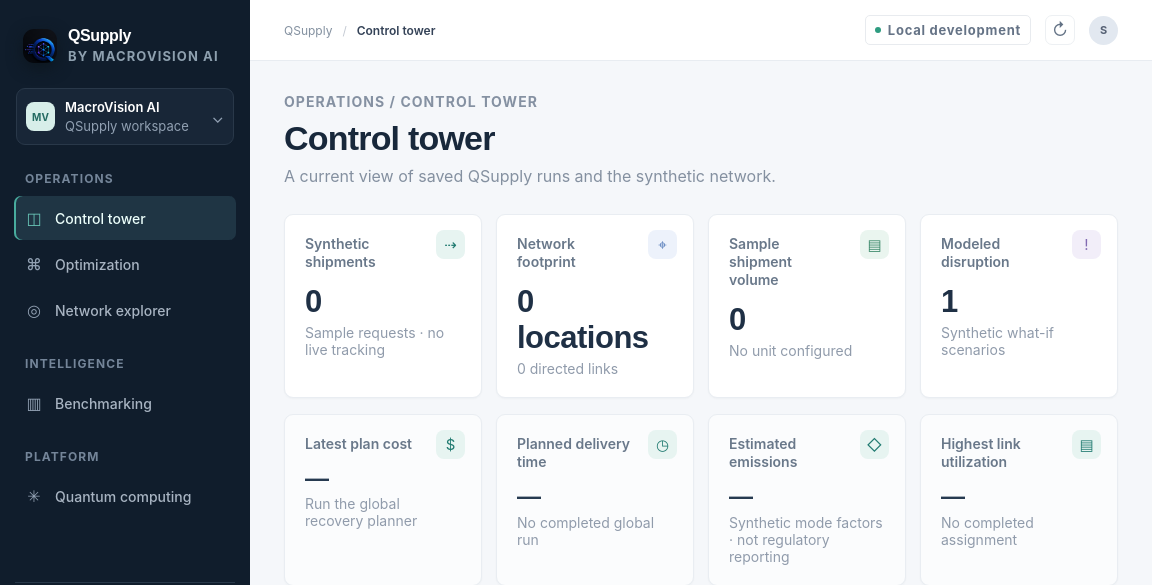
Test: QSupply dashboard interactions › applies a predefined multi-objective profile with weights totaling 100
The width and height of the screenshot is (1152, 585).
expect the heading "Control tower" is shown: met, box [284,119,495,157]
Step 1. Click the button "◎ Network explorer" → point(125, 310), box [14,288,236,332]
(page scrolled)
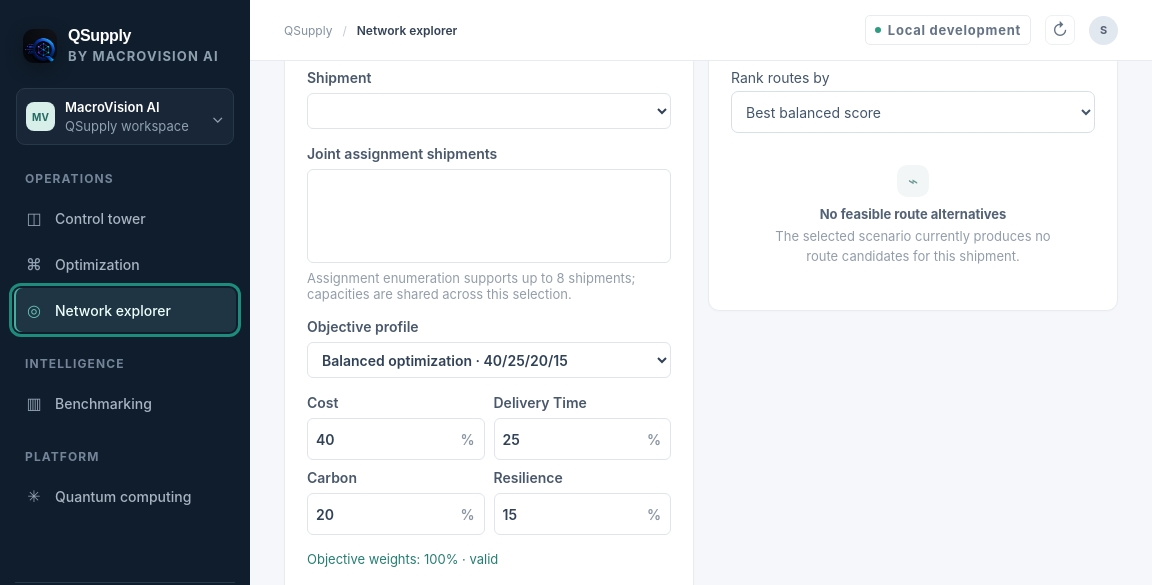
Step 2. Select "Cost priority · 70/10/10/10" in the dropdown labelled "Objective profile" → point(489, 360), box [307,342,671,378]
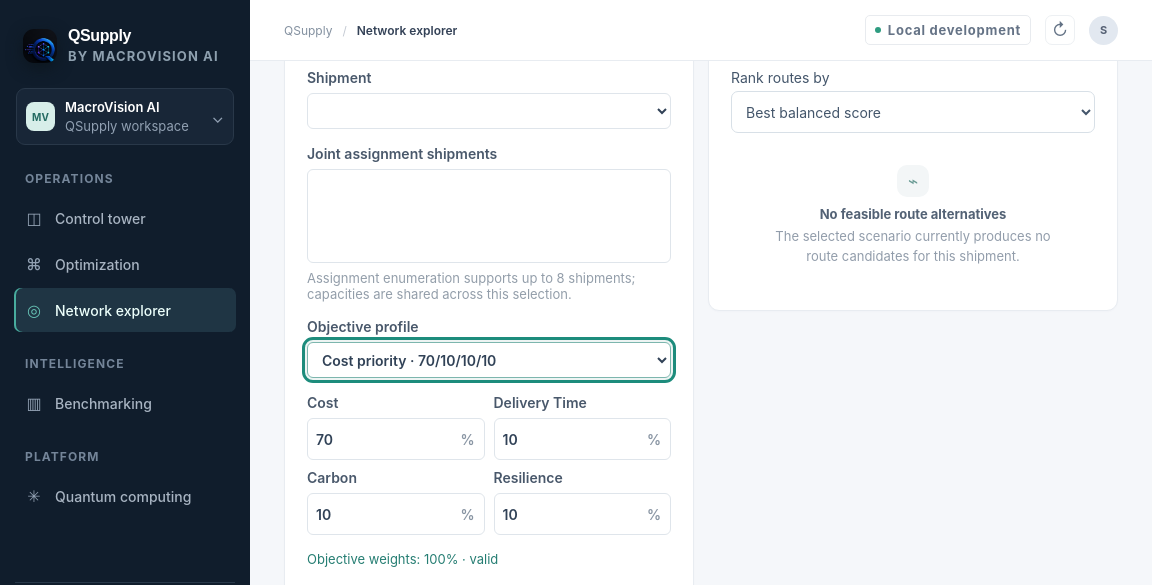
expect the number field labelled "cost %" holds "70": met, box [308,431,460,448]
expect the number field labelled "delivery time %" holds "10": met, box [494,431,647,448]
expect the number field labelled "carbon %" holds "10": met, box [308,506,460,523]
